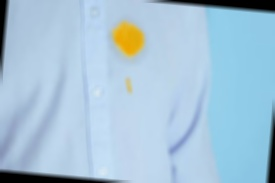mustard: (114, 23, 148, 54), (124, 77, 134, 94)
